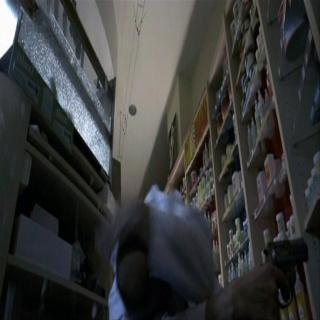gun: (252, 222, 318, 319)
